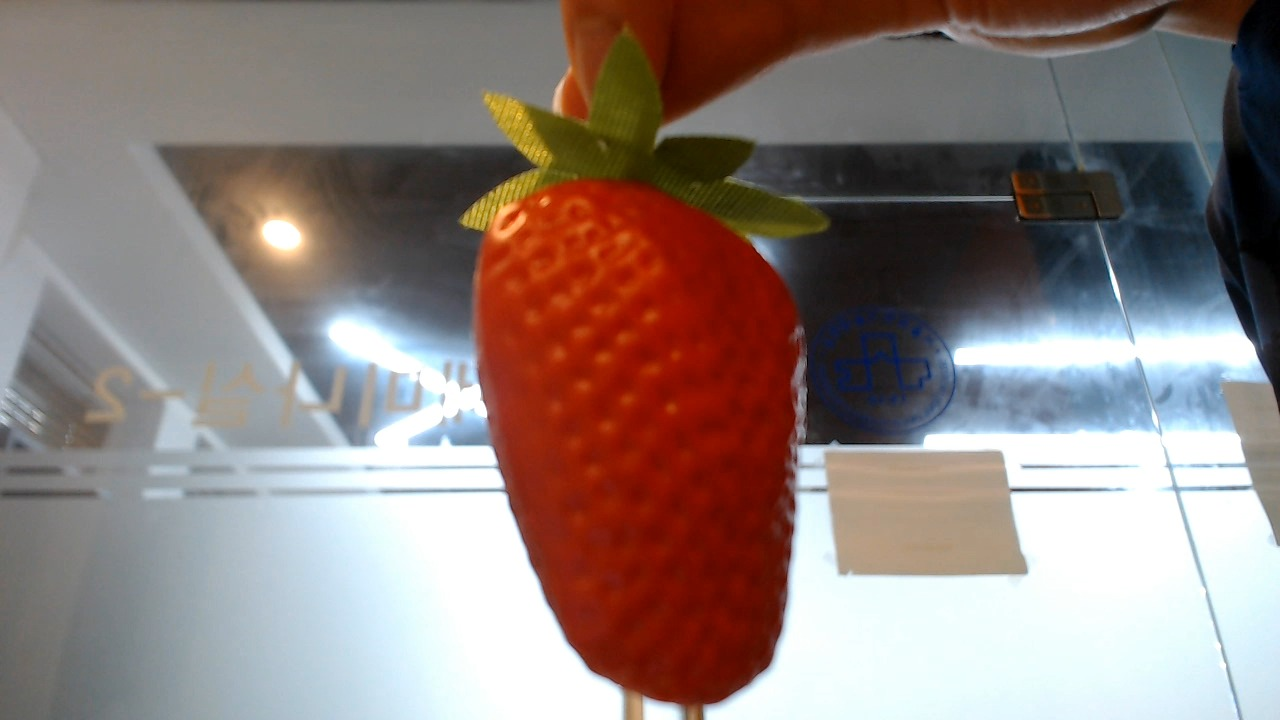strawberry: (471, 128, 808, 703)
